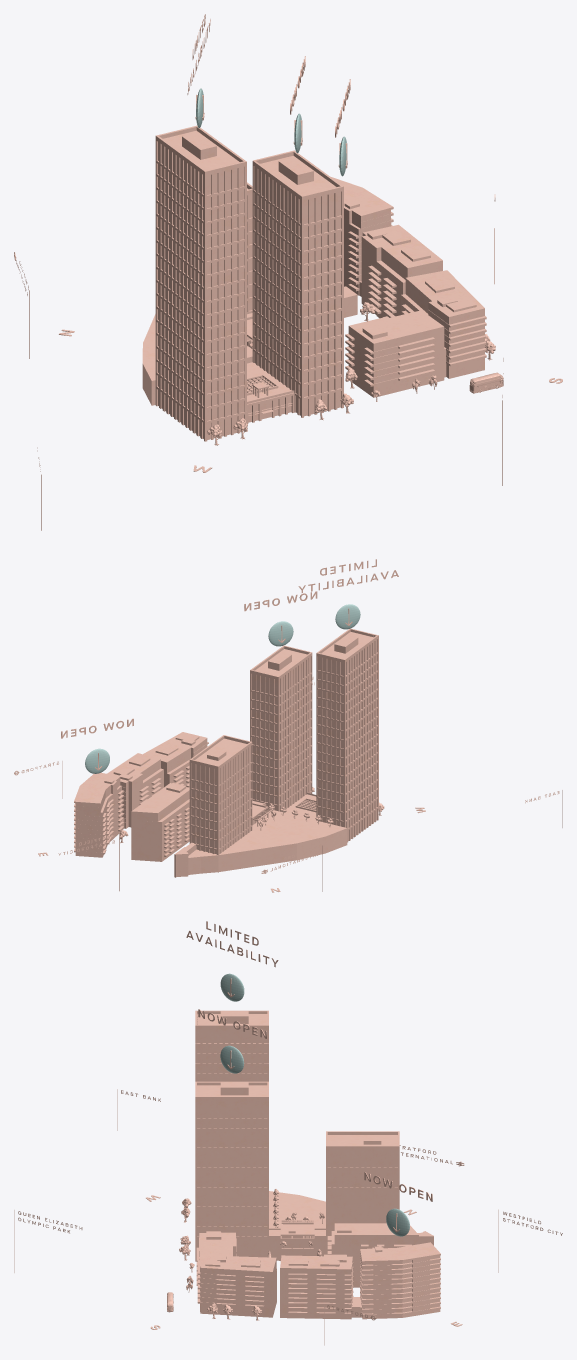
File: CMS28.gltf
The picture shows the model from 3 angles, top to bottom: view 1: azimuth 30°, elevation 25°; view 2: azimuth 150°, elevation 25°; view 3: azimuth 270°, elevation 25°; orthographic projection. The views are drawn at different scales.
Visible parts, largest first — view 1: Xavier, Bussell, Hows, Sandhu, Bulk, Harrison; view 2: Xavier, Bussell, Harrison, Bulk, Sandhu, Aarons, Hows, Open2, Arrow, Arrow3, Arrow5; view 3: Bussell, Sandhu, Harrison, Hows, Xavier, Bulk, Aarons, Open2, Arrow, Arrow3, Arrow5.
Part boxes in pixels (x1,y1,x2,y2): Xavier: [155, 125, 246, 441]; Bussell: [252, 150, 343, 417]; Hows: [345, 270, 486, 397]; Sandhu: [330, 176, 442, 318]; Bulk: [29, 228, 562, 530]; Harrison: [247, 182, 252, 314]; Xavier: [316, 628, 378, 842]; Bussell: [250, 645, 312, 811]; Harrison: [174, 735, 252, 877]; Bulk: [38, 761, 562, 892]; Sandhu: [74, 753, 163, 857]; Aarons: [131, 783, 189, 861]; Hows: [143, 732, 208, 787]; Open2: [298, 559, 398, 592]; Arrow: [335, 604, 360, 629]; Arrow3: [268, 621, 293, 646]; Arrow5: [85, 748, 109, 773]; Bussell: [195, 1081, 268, 1261]; Sandhu: [280, 1242, 440, 1319]; Harrison: [326, 1131, 433, 1254]; Hows: [196, 1231, 276, 1317]; Xavier: [195, 1010, 268, 1081]; Bulk: [14, 1089, 498, 1345]; Aarons: [327, 1223, 418, 1287]; Open2: [186, 921, 278, 967]; Arrow: [220, 973, 244, 1001]; Arrow3: [220, 1045, 244, 1073]; Arrow5: [386, 1208, 409, 1236].
Bounding box in the file's own units: 308 × 182 × 313.
3 materials, 2 textured.
